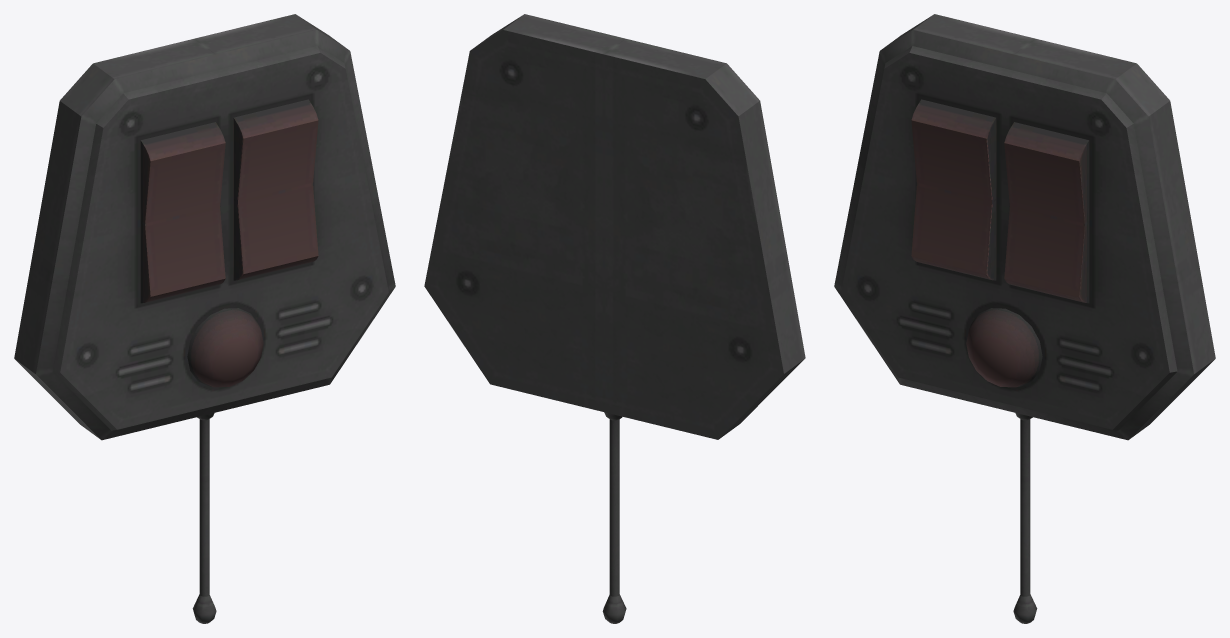
The model's file is nt_2020_remote_control_02_LOD0.obj.
The picture shows the model from 3 angles, left to right: view 1: azimuth 30°, elevation 25°; view 2: azimuth 150°, elevation 25°; view 3: azimuth 330°, elevation 25°; orthographic projection.
Parts seen in each view (by area): view 1: mtl_nt_2020_remote_control_02; view 2: mtl_nt_2020_remote_control_02; view 3: mtl_nt_2020_remote_control_02.
Boxes of the visible parts, x1=… form: mtl_nt_2020_remote_control_02: x1=14, y1=14, x2=395, y2=623; mtl_nt_2020_remote_control_02: x1=424, y1=14, x2=805, y2=623; mtl_nt_2020_remote_control_02: x1=834, y1=14, x2=1215, y2=623.
Bounding box in the file's own units: 12.18 × 18.64 × 2.55.
